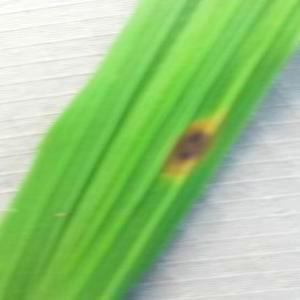0 BrownSpot: (154, 113, 228, 185)
